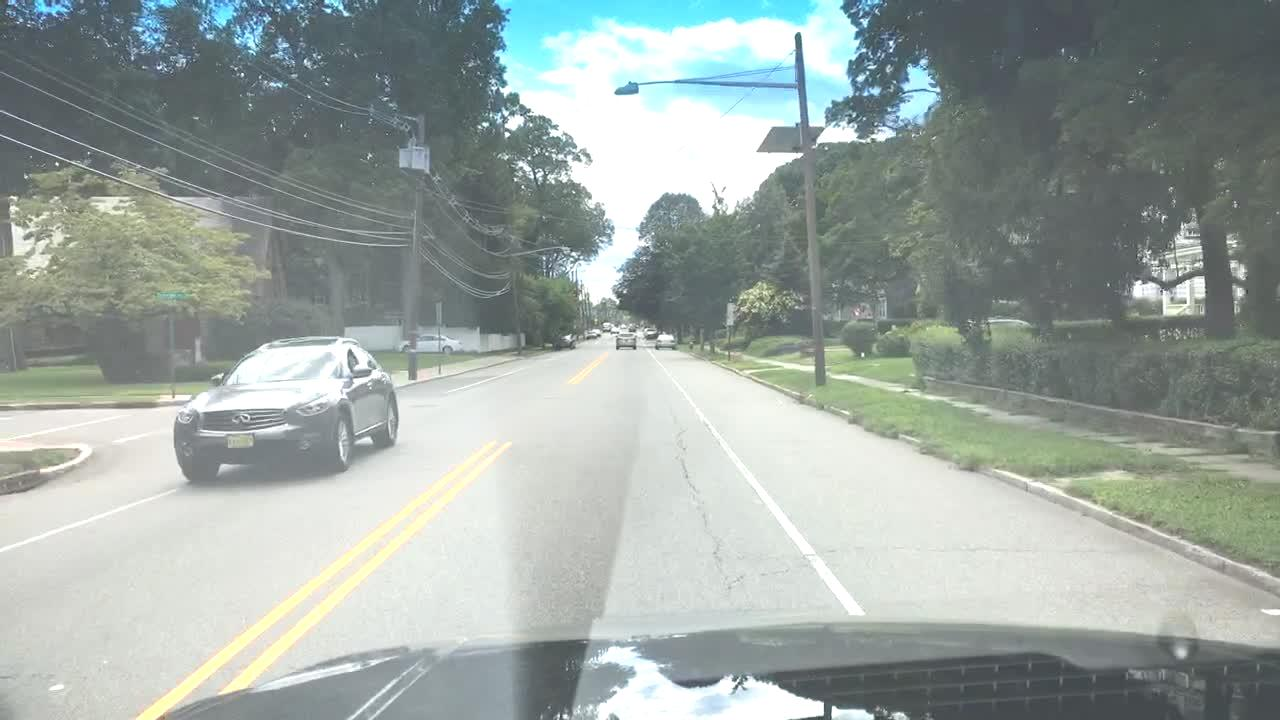Infiniti: (230, 410, 251, 430)
